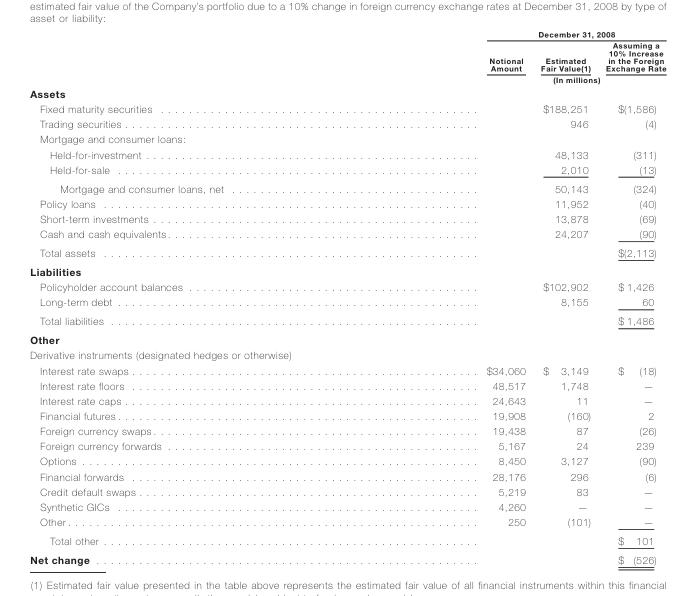table: (29, 29, 665, 565)
table column: (29, 29, 354, 565), (354, 29, 532, 565), (597, 29, 665, 565), (532, 29, 597, 565)
table column header: (29, 29, 665, 85)
table projected row header: (29, 261, 665, 279), (29, 329, 665, 347), (29, 85, 665, 101), (29, 131, 665, 146), (29, 347, 665, 362)
table row: (29, 39, 665, 73), (29, 243, 665, 261), (29, 261, 665, 279), (29, 311, 665, 329), (29, 329, 665, 347), (29, 513, 665, 531), (29, 531, 665, 549), (29, 161, 665, 178), (29, 178, 665, 195), (29, 226, 665, 243), (29, 294, 665, 311), (29, 85, 665, 101), (29, 210, 665, 226), (29, 407, 665, 423), (29, 549, 665, 565), (29, 101, 665, 116), (29, 116, 665, 131), (29, 131, 665, 146), (29, 146, 665, 161), (29, 195, 665, 210), (29, 279, 665, 294), (29, 347, 665, 362), (29, 362, 665, 377), (29, 377, 665, 392), (29, 392, 665, 407), (29, 423, 665, 438), (29, 438, 665, 453), (29, 453, 665, 468), (29, 468, 665, 483), (29, 483, 665, 498), (29, 498, 665, 513), (29, 73, 665, 85), (29, 29, 665, 39)
table spanning cell: (354, 73, 665, 85), (354, 29, 665, 39)
